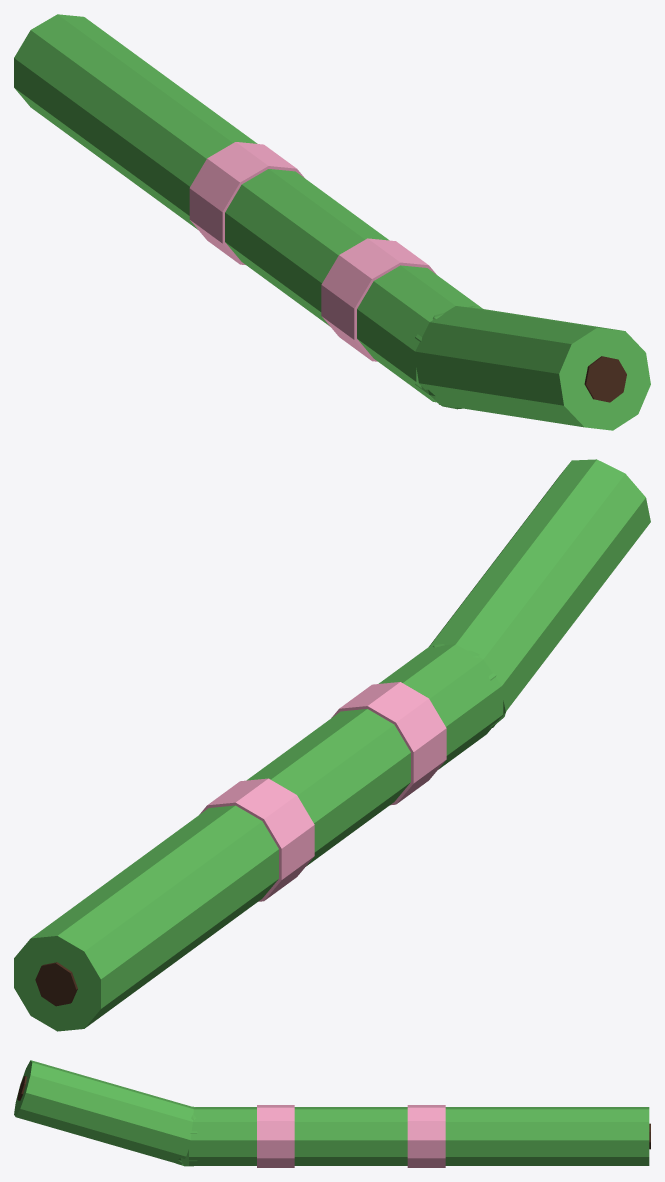
The model's file is CatCafe_Item_PoolNoodle.glb.
3 renders of one model, top to bottom at view 1: azimuth 30°, elevation 25°; view 2: azimuth 150°, elevation 25°; view 3: azimuth 270°, elevation 25°, orthographic. The views are drawn at different scales.
Visible parts, largest first — view 1: CatCafe_Item_PoolNoodle; view 2: CatCafe_Item_PoolNoodle; view 3: CatCafe_Item_PoolNoodle.
Boxes of the visible parts, <box> form: CatCafe_Item_PoolNoodle: <box>14,14,650,430</box>; CatCafe_Item_PoolNoodle: <box>14,459,650,1031</box>; CatCafe_Item_PoolNoodle: <box>14,1060,650,1167</box>.
Size of the model in its own units: 0.4032 by 0.7526 by 4.22.
1 material, 1 textured.
